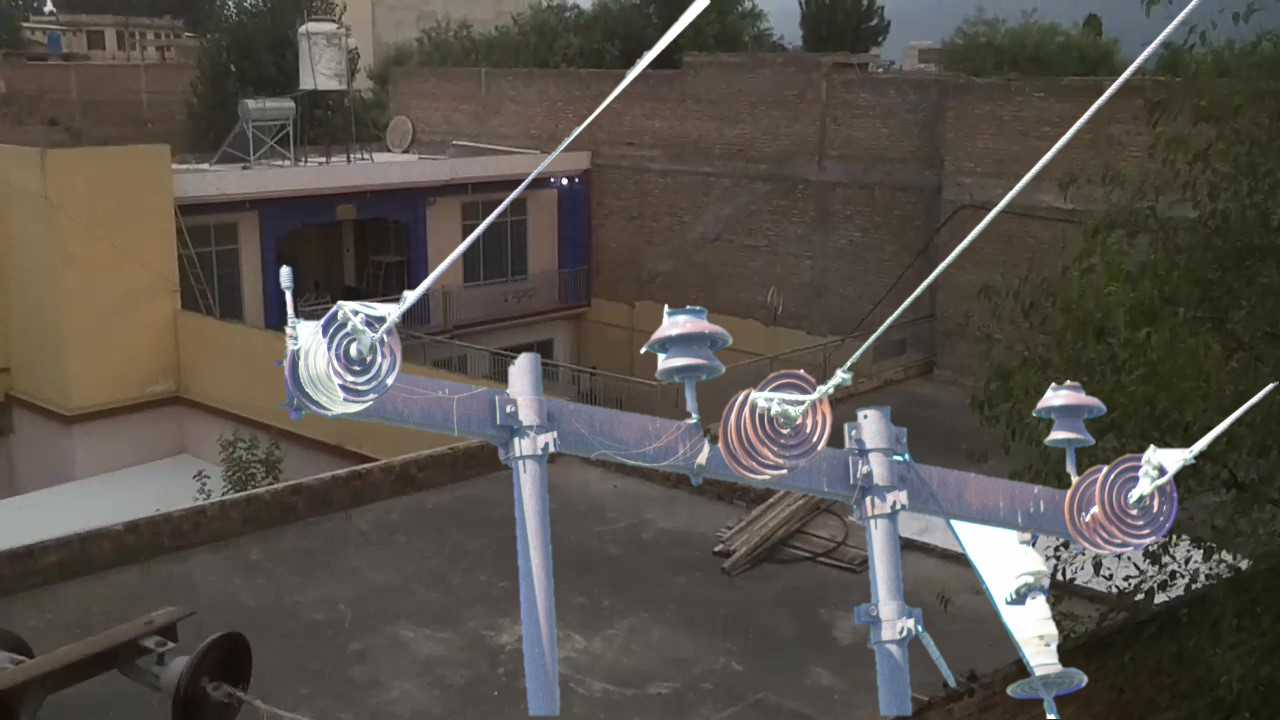defect_disc: (320, 293, 406, 405)
insulator_disc: (155, 624, 264, 717), (742, 360, 835, 468), (1093, 446, 1182, 554)
